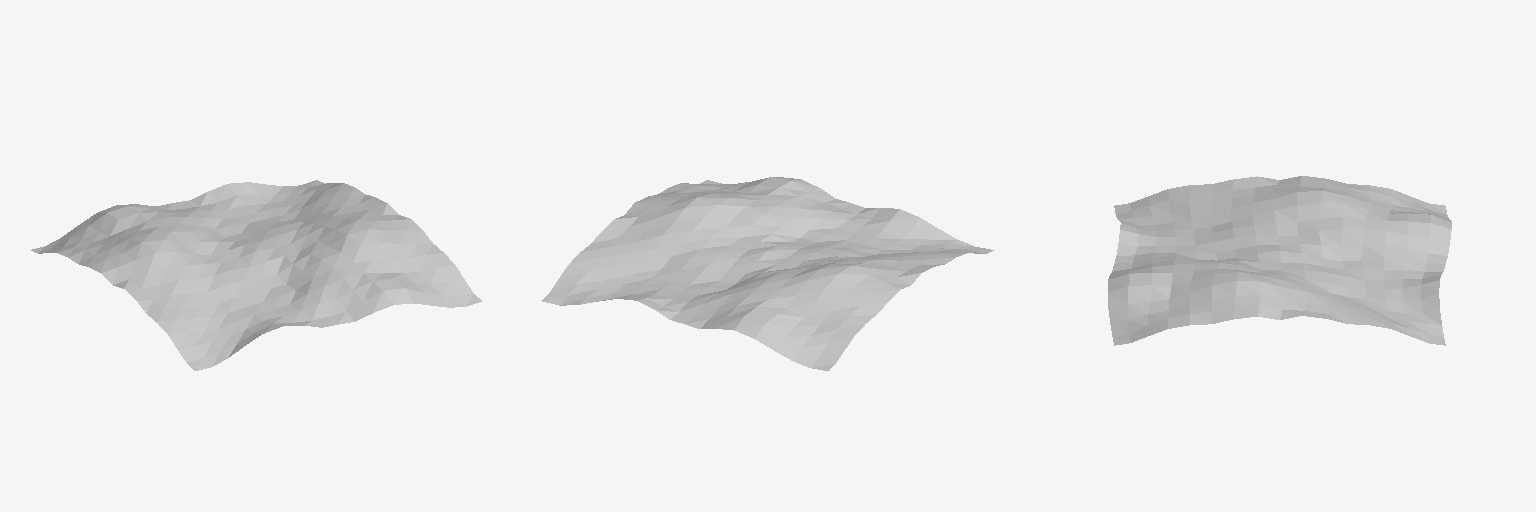
File: water_000069.obj
The picture shows the model from 3 angles: view 1: azimuth 30°, elevation 25°; view 2: azimuth 150°, elevation 25°; view 3: azimuth 270°, elevation 25°; orthographic projection.
Parts seen in each view (by area): view 1: Plan.003_Plan.001; view 2: Plan.003_Plan.001; view 3: Plan.003_Plan.001.
Part boxes in pixels (x1,y1,x2,y2): Plan.003_Plan.001: (31, 180, 481, 370); Plan.003_Plan.001: (542, 177, 993, 370); Plan.003_Plan.001: (1108, 176, 1451, 345).
Bounding box in the file's own units: 60638 × 8144 × 62747.